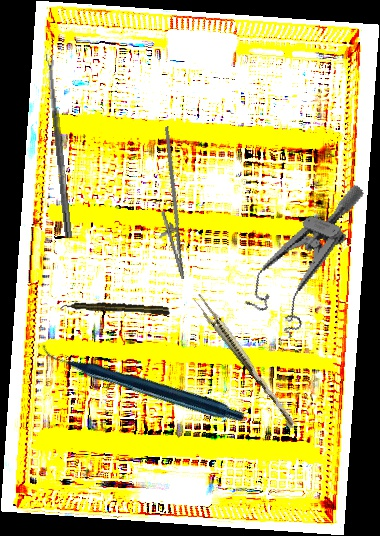Handpiece: (40, 272, 247, 491), (59, 300, 171, 316)
Needle Holder: (135, 126, 203, 282)
Speculum: (237, 161, 367, 347)
Surgical Spoon: (45, 53, 74, 239)
Tissue Forceps: (189, 292, 302, 430)
